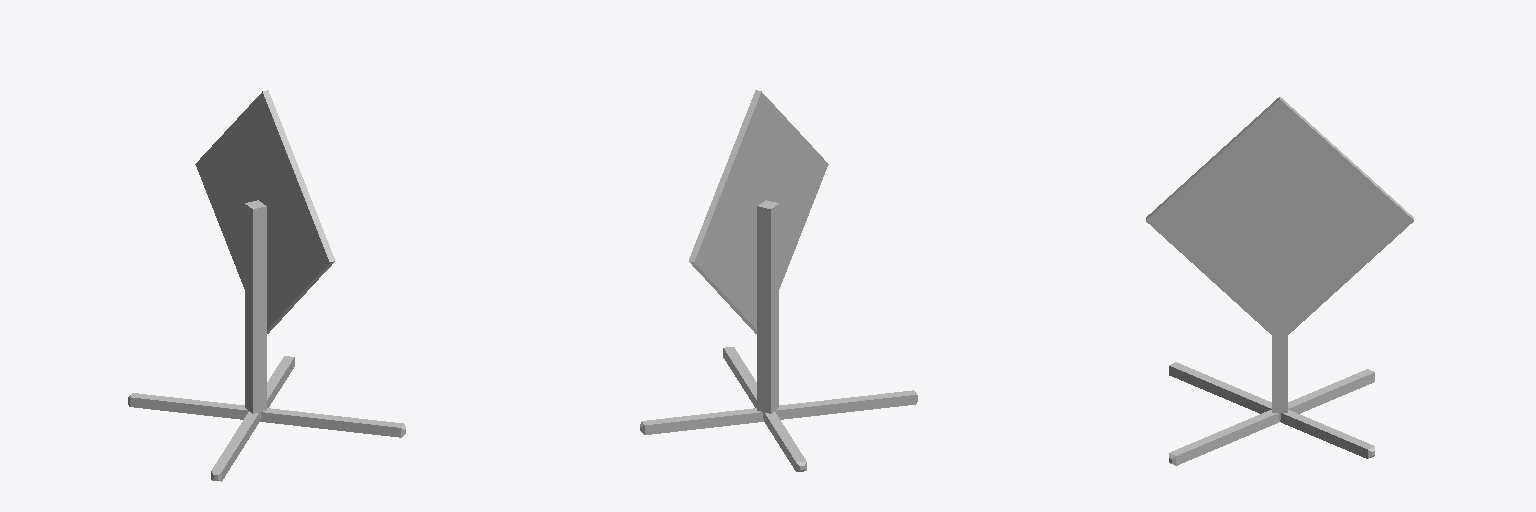
File: road_closed_sign.obj
The picture shows the model from 3 angles: view 1: azimuth 30°, elevation 25°; view 2: azimuth 150°, elevation 25°; view 3: azimuth 270°, elevation 25°; orthographic projection.
Parts seen in each view (by area): view 1: Cube; view 2: Cube; view 3: Cube.
Part boxes in pixels (x1,y1,x2,y2): Cube: (128,90,405,481); Cube: (640,90,917,471); Cube: (1146,97,1413,465).
Size of the model in its own units: 2.34 by 3.78 by 2.83.